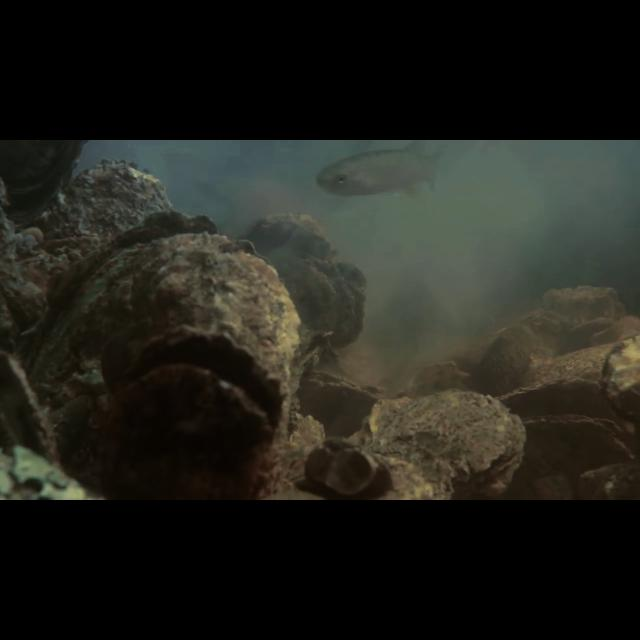Oyster-Closed: (26, 227, 246, 395), (127, 247, 306, 376), (356, 392, 531, 490), (247, 211, 374, 344), (2, 346, 68, 470), (521, 411, 636, 459), (471, 318, 538, 388), (595, 331, 633, 428), (498, 375, 598, 407)
Oyster-Open: (105, 328, 288, 457), (554, 315, 622, 357)
